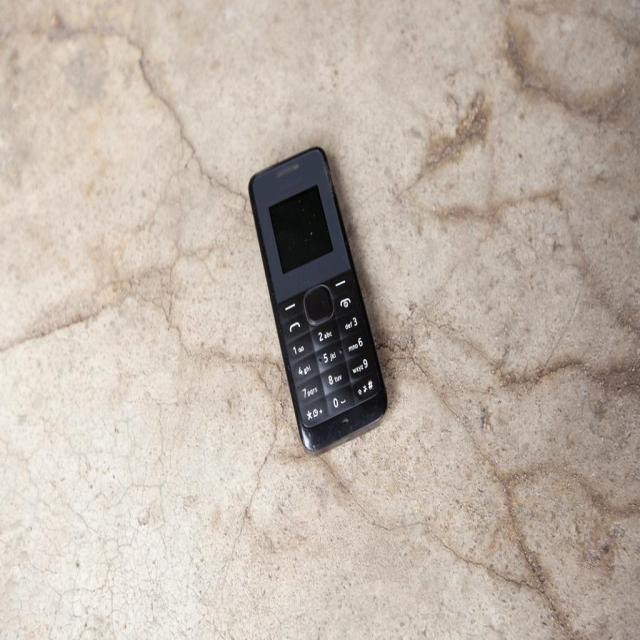Phone: (248, 144, 389, 456)
